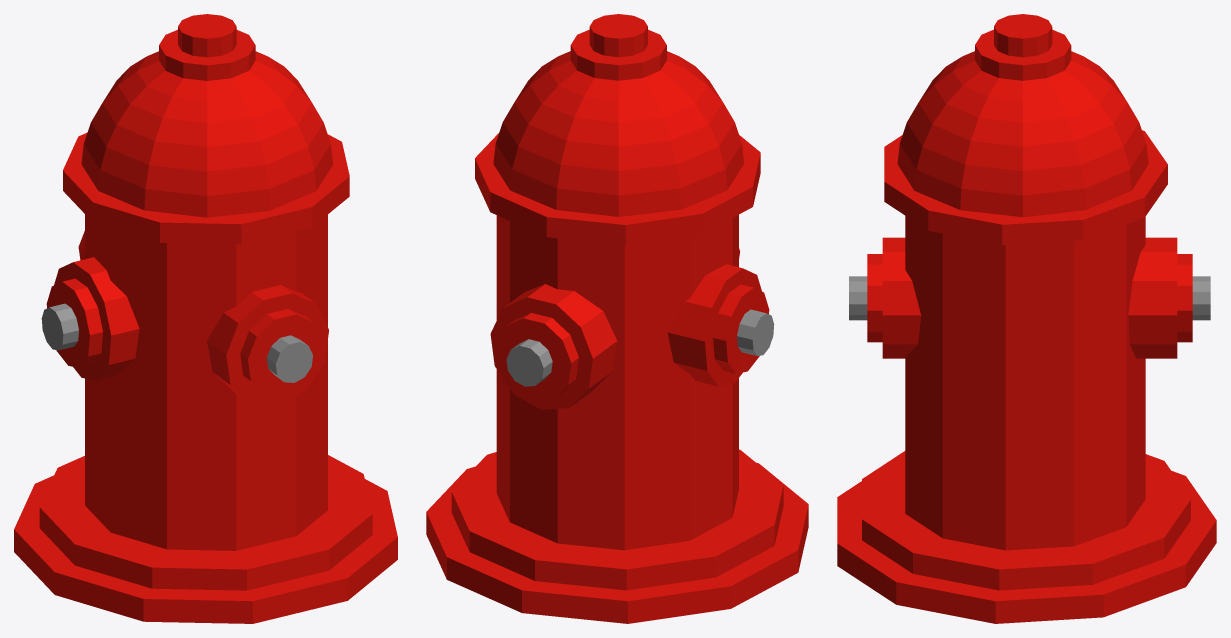
The model's file is FireHydrant.fbx.
3 renders of one model, left to right at view 1: azimuth 30°, elevation 25°; view 2: azimuth 150°, elevation 25°; view 3: azimuth 270°, elevation 25°, orthographic.
Parts seen in each view (by area): view 1: Hydrant base, Hydrant head, Hydrant Pipe, Cylinder.002; view 2: Hydrant base, Hydrant head, Cylinder, Cylinder.002; view 3: Hydrant base, Hydrant head, Cylinder, Hydrant Pipe.
Boxes of the visible parts, x1,y1,x2,y2 form: Hydrant base: (14,132,397,623); Hydrant head: (81,14,332,217); Hydrant Pipe: (207,285,328,406); Cylinder.002: (41,257,139,380); Hydrant base: (426,133,808,623); Hydrant head: (493,14,743,216); Cylinder: (490,284,617,409); Cylinder.002: (667,264,774,386); Hydrant base: (837,130,1216,623); Hydrant head: (897,14,1148,217); Cylinder: (1128,237,1210,358); Hydrant Pipe: (849,237,921,358).
Size of the model in its own units: 150 by 223 by 149.
